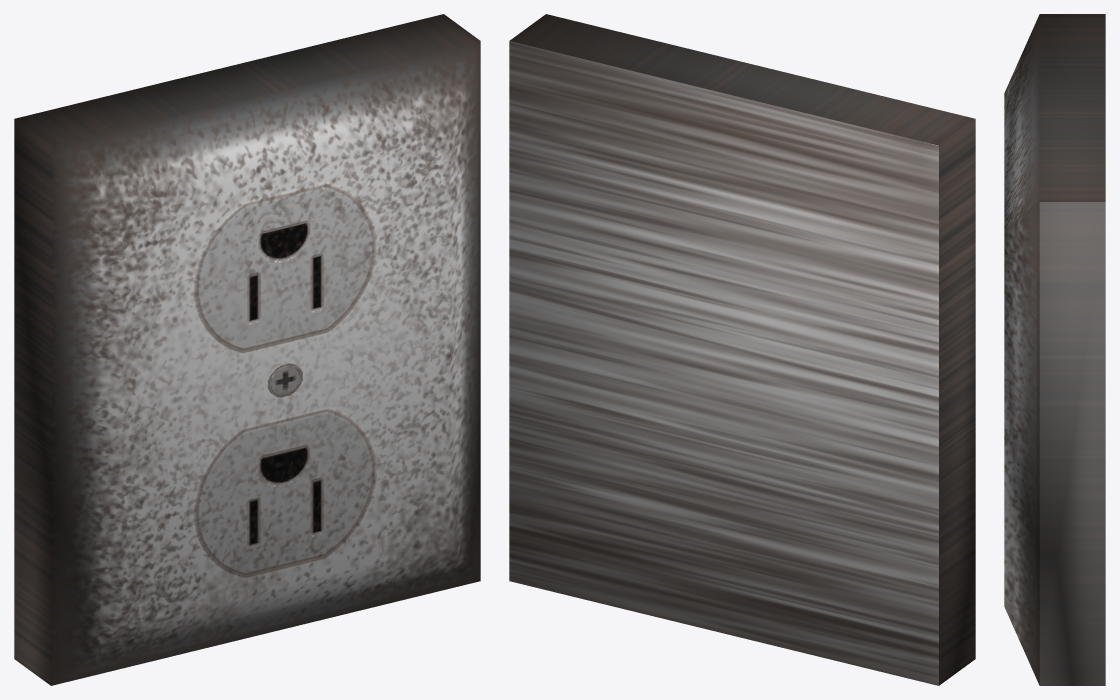
The model's file is Outlet.fbx.
3 views of the same model, side by side, from view 1: azimuth 30°, elevation 25°; view 2: azimuth 150°, elevation 25°; view 3: azimuth 270°, elevation 25° (orthographic). The views are drawn at different scales.
Parts seen in each view (by area): view 1: Outet_2_no_holes; view 2: Outet_2_no_holes; view 3: Outet_2_no_holes.
Boxes of the visible parts, box(x1,y1,x2,y2) form: Outet_2_no_holes: box(14, 14, 480, 685); Outet_2_no_holes: box(509, 14, 975, 685); Outet_2_no_holes: box(1004, 14, 1105, 685).
Size of the model in its own units: 2.52 by 3.02 by 0.5722.
